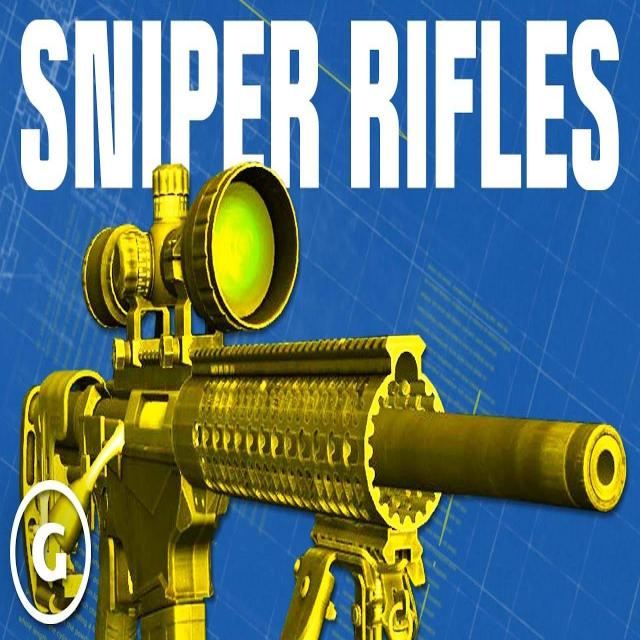weapon: (10, 146, 631, 640)
